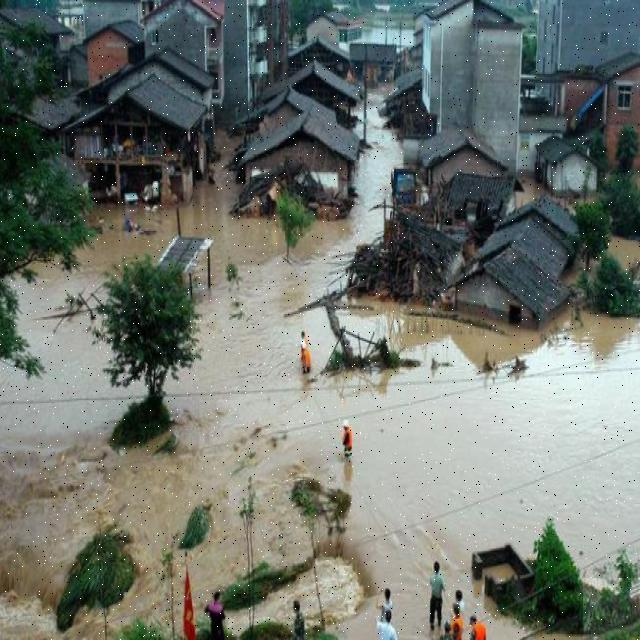rescuer: (334, 418, 366, 468), (296, 342, 314, 374)
